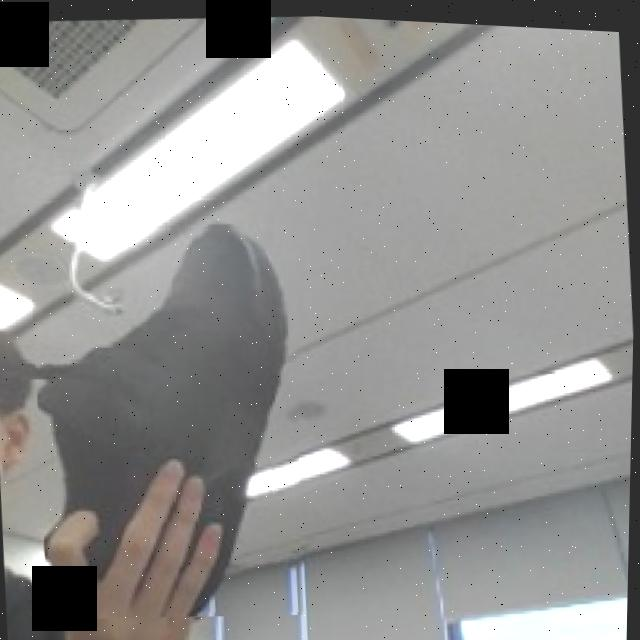shoe: (23, 210, 320, 629)
